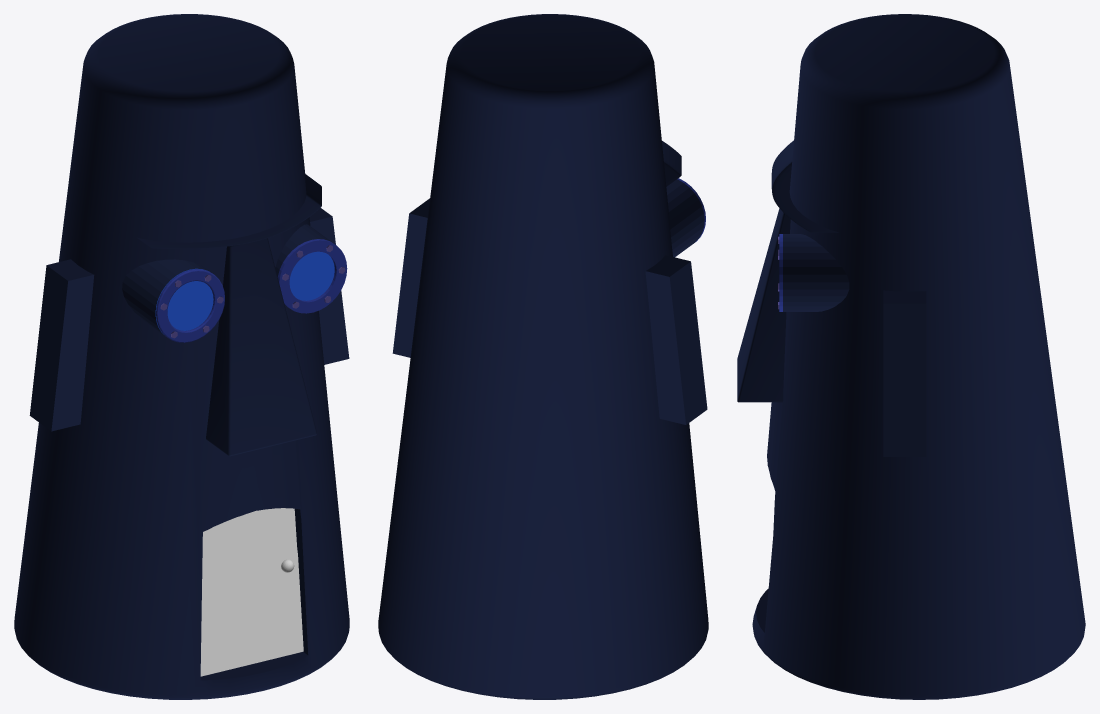
File: squidward_house.obj
3 renders of one model, left to right at view 1: azimuth 30°, elevation 25°; view 2: azimuth 150°, elevation 25°; view 3: azimuth 270°, elevation 25°, orthographic.
Parts seen in each view (by area): view 1: obj24, obj4, obj25, obj2, obj5, obj16, obj1, obj7, obj3, obj6, obj15, obj14; view 2: obj24, obj2, obj1, obj5, obj3; view 3: obj24, obj1, obj4, obj14, obj3.
Boxes of the visible parts, x1,y1,x2,y2 form: obj24: (14,14,349,699); obj4: (206,238,316,456); obj25: (200,508,303,676); obj2: (29,259,94,431); obj5: (122,259,211,335); obj16: (277,239,347,313); obj1: (309,208,349,364); obj7: (156,269,224,342); obj3: (137,173,321,248); obj6: (155,268,213,334); obj15: (289,251,334,300); obj14: (275,224,333,305); obj24: (378,14,708,699); obj2: (645,255,707,424); obj1: (392,198,429,357); obj5: (666,179,704,257); obj3: (662,141,681,186); obj24: (752,14,1085,699); obj1: (883,290,926,456); obj4: (737,208,790,402); obj14: (783,234,849,311); obj3: (771,140,838,232).
Bounding box in the file's own units: 2.58 × 4.83 × 2.64.
